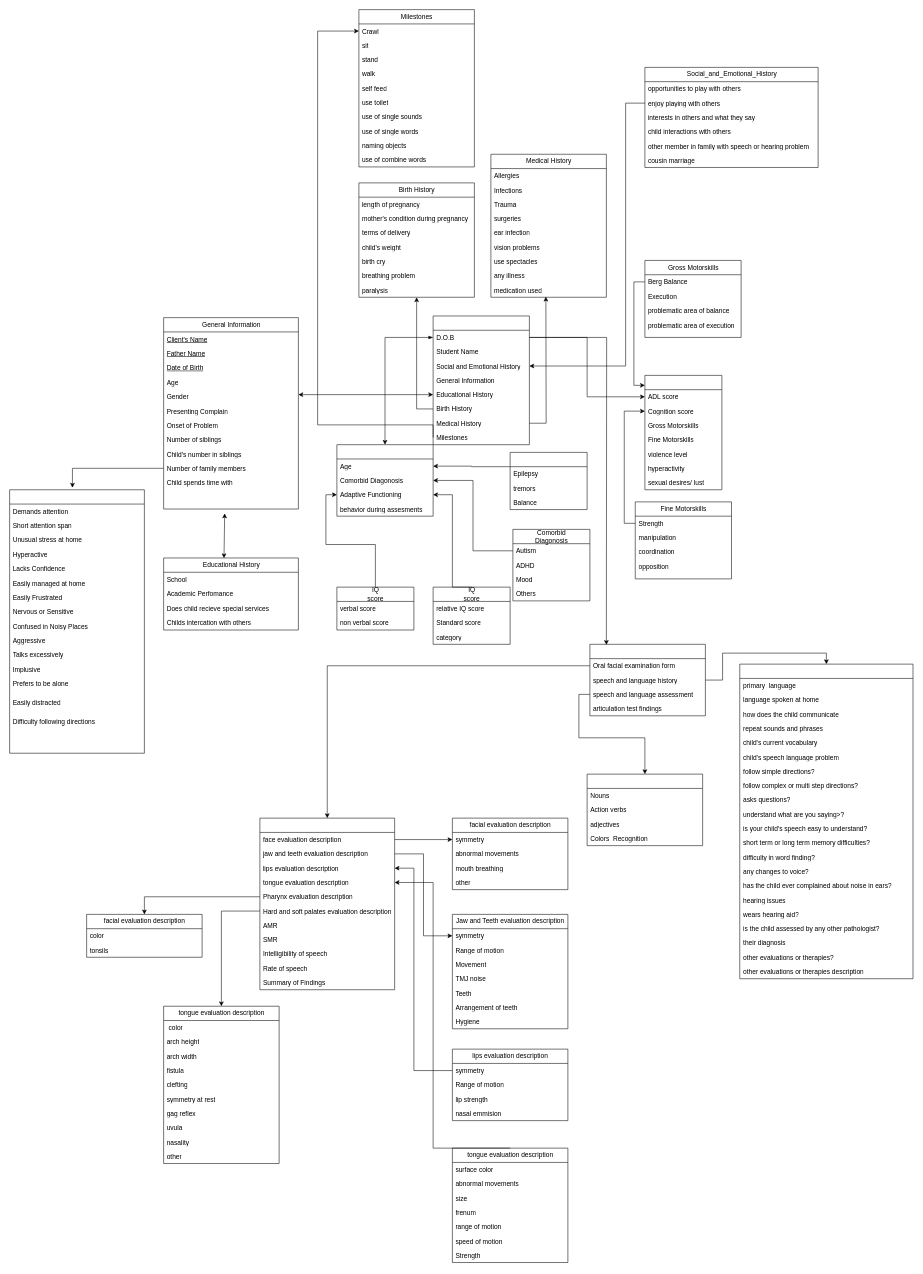
This 923x1274 diagram has some shape labels left out. Each missing label, with the box of its shape:
Behavior during assessments: (9, 489, 144, 753)
Neurological Analysis: (510, 452, 587, 510)
Occupational therapy: (644, 375, 722, 490)
Oral_facial_examination_form: (259, 818, 395, 990)
Psychological Analysis: (336, 444, 433, 516)
Speech therapy: (589, 644, 705, 716)
speech_and_language_assessment: (587, 774, 703, 846)
speech_and_language_history: (739, 664, 913, 979)
Student Assessments: (433, 315, 529, 445)
